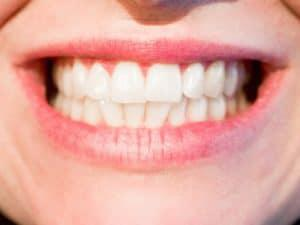normal: (109, 60, 145, 102), (146, 61, 182, 103), (84, 61, 109, 99), (142, 98, 170, 130), (181, 62, 204, 98), (98, 98, 125, 128), (205, 59, 224, 97), (121, 99, 144, 128), (224, 62, 239, 97), (72, 59, 85, 99), (168, 98, 187, 125), (187, 99, 208, 123), (207, 96, 227, 121), (83, 100, 99, 127), (62, 63, 72, 97), (72, 100, 84, 123), (227, 97, 237, 116), (62, 96, 71, 117)
